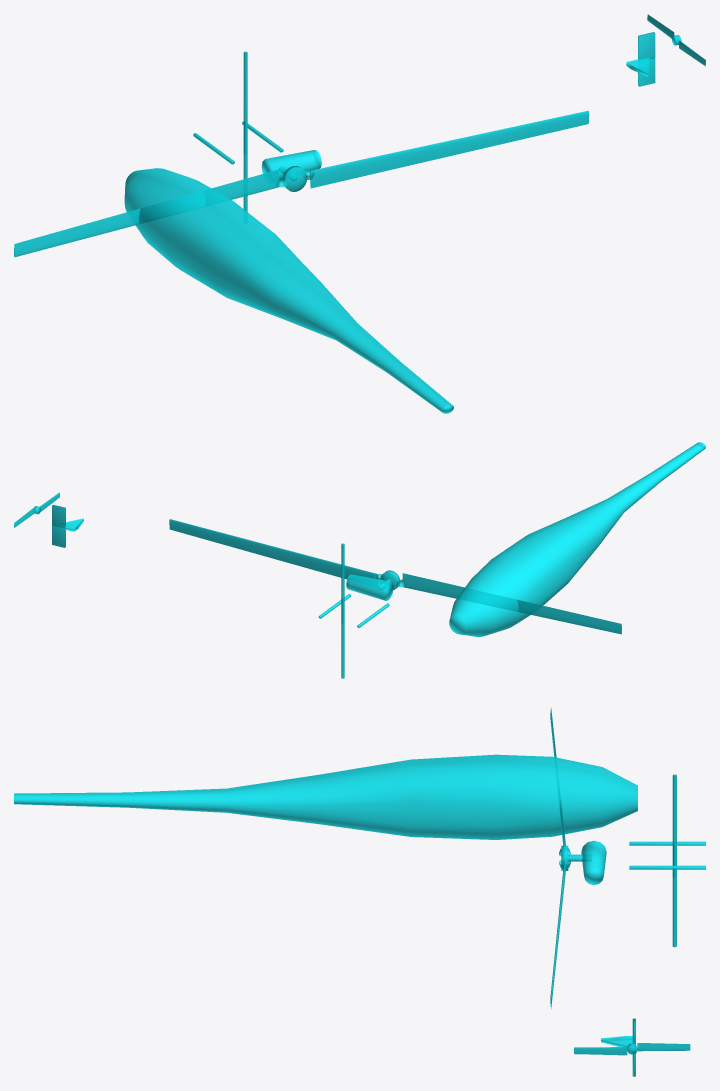
The model's file is ab206_hologram.glb.
3 views of the same model, one above another, from view 1: azimuth 30°, elevation 25°; view 2: azimuth 150°, elevation 25°; view 3: azimuth 270°, elevation 25° (orthographic). The views are drawn at different scales.
Bounding box in the file's own units: 11.54 × 2.66 × 9.76.
